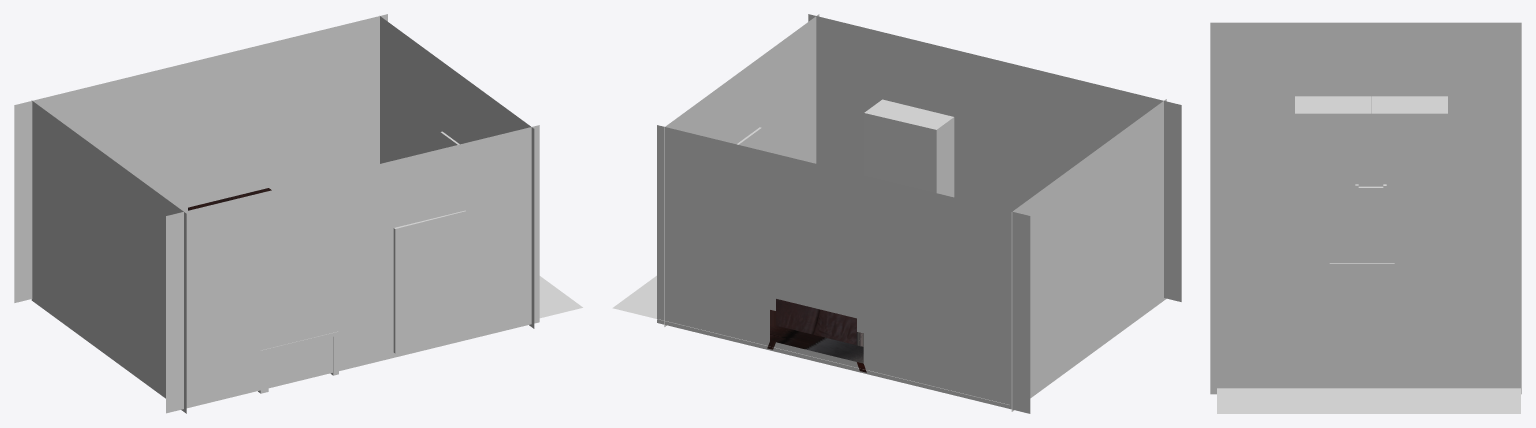
The model's file is libraryYYY.fbx.
3 views of the same model, side by side, from view 1: azimuth 30°, elevation 25°; view 2: azimuth 150°, elevation 25°; view 3: azimuth 270°, elevation 25° (orthographic).
Parts seen in each view (by area): view 1: Plane.002, Plane.005, Plane.003, Plane.006, Cube.007, Plane.001, Cube.008; view 2: Plane.005, Plane.002, Plane.003, Plane.006, Cube.007, Cube.010, Plane.001; view 3: Plane.006, Plane.003, Cube.015, Plane.001, Cube.001, Cube.
Part boxes in pixels (x1,y1,x2,y2): Plane.002: (166,125,539,413); Plane.005: (14,14,387,302); Plane.003: (31,100,186,413); Plane.006: (380,16,534,328); Cube.007: (393,210,466,353); Plane.001: (539,276,582,318); Cube.008: (257,331,338,393); Plane.005: (657,125,1030,413); Plane.002: (808,14,1181,301); Plane.003: (1011,99,1166,411); Plane.006: (664,14,819,326); Cube.007: (864,99,954,197); Cube.010: (767,299,866,372); Plane.001: (612,275,1008,404); Plane.006: (1210,193,1521,394); Plane.003: (1210,22,1521,193); Cube.015: (1329,263,1394,386); Plane.001: (1217,388,1520,413); Cube.001: (1371,96,1447,193); Cube: (1295,96,1371,193).
Bounding box in the file's own units: 3103 × 1422 × 1993.
